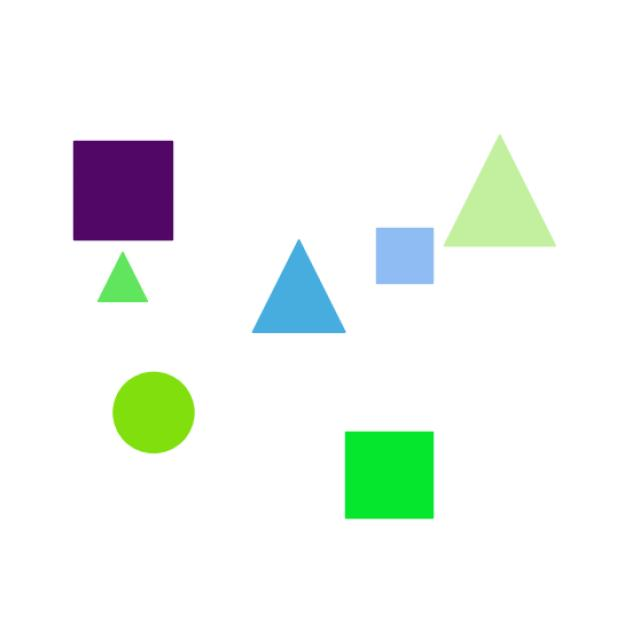Circle: (100, 358, 205, 461)
Triangle: (433, 124, 582, 252), (218, 225, 355, 345), (93, 238, 156, 309)
square: (61, 128, 180, 248), (330, 405, 447, 527), (353, 217, 466, 295)
